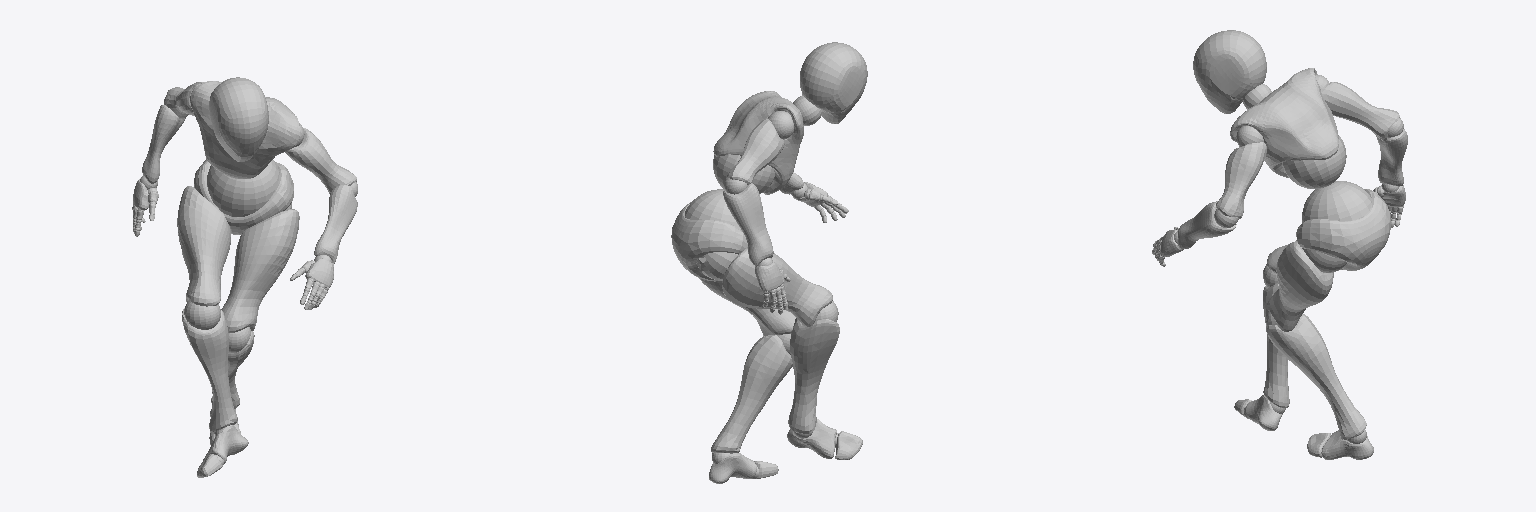
3 views of the same model, side by side, from view 1: azimuth 30°, elevation 25°; view 2: azimuth 150°, elevation 25°; view 3: azimuth 270°, elevation 25° (orthographic).
Parts seen in each view (by area): view 1: Beta_Surface, Beta_Joints; view 2: Beta_Surface, Beta_Joints; view 3: Beta_Surface, Beta_Joints.
Boxes of the visible parts, <box> form: Beta_Surface: <box>132,77,357,477</box>; Beta_Joints: <box>133,97,357,464</box>; Beta_Surface: <box>671,42,867,483</box>; Beta_Joints: <box>685,95,843,478</box>; Beta_Surface: <box>1152,30,1407,459</box>; Beta_Joints: <box>1152,74,1403,443</box>.
Bounding box in the file's own units: 0.5686 × 1.48 × 0.8446.